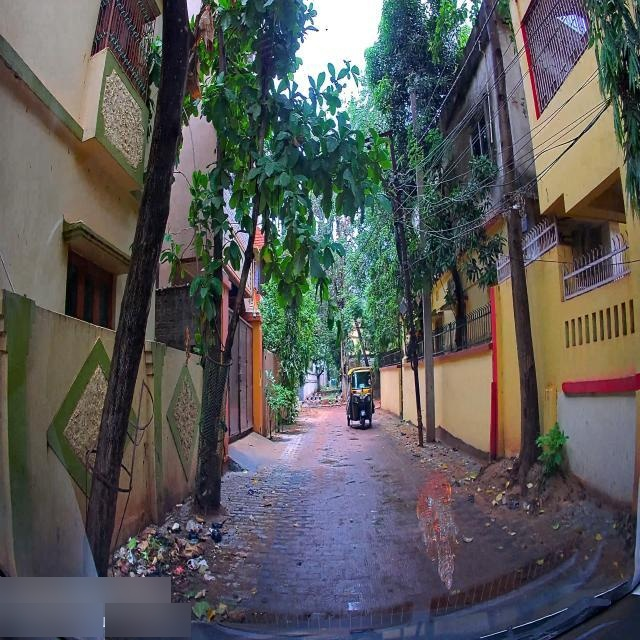pothole: (332, 466, 358, 470), (374, 520, 386, 528), (330, 495, 342, 502), (363, 458, 376, 464), (316, 448, 334, 452), (382, 501, 392, 508), (384, 474, 396, 478), (334, 435, 345, 439), (319, 460, 339, 462), (371, 474, 379, 479), (340, 458, 352, 461), (370, 510, 378, 514), (349, 438, 361, 440), (347, 482, 355, 484)
